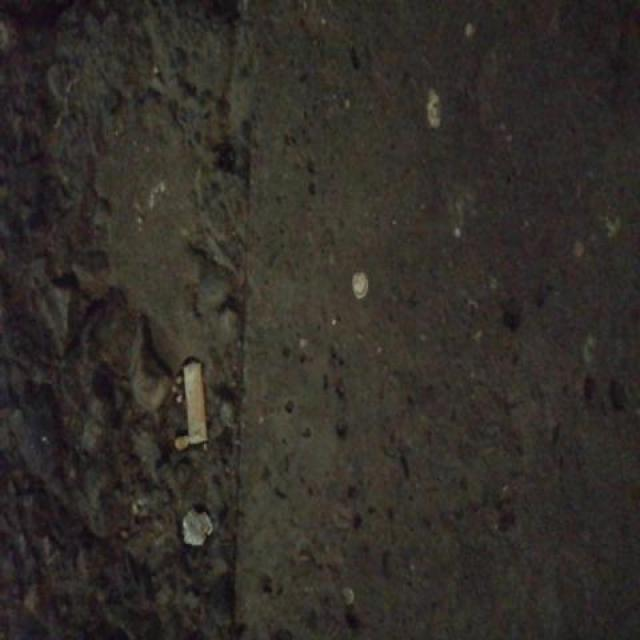non-organic waste: (180, 356, 212, 451)
